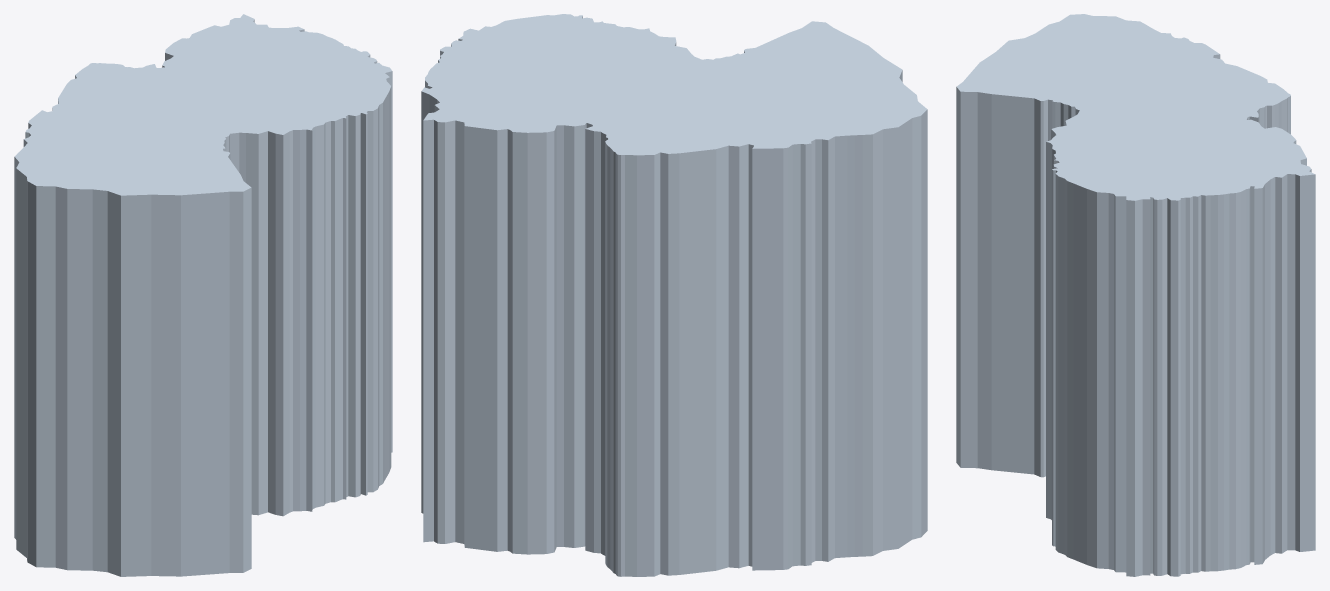
The model's file is FrozenLake1_000.dae.
3 views of the same model, side by side, from view 1: azimuth 30°, elevation 25°; view 2: azimuth 150°, elevation 25°; view 3: azimuth 270°, elevation 25° (orthographic). The views are drawn at different scales.
Parts seen in each view (by area): view 1: Object; view 2: Object; view 3: Object.
Part boxes in pixels (left/top/right/bottom): Object: left=14, top=14, right=392, bottom=576; Object: left=421, top=14, right=927, bottom=576; Object: left=956, top=14, right=1315, bottom=576.
Size of the model in its own units: 8.11 by 6.59 by 7.61.
